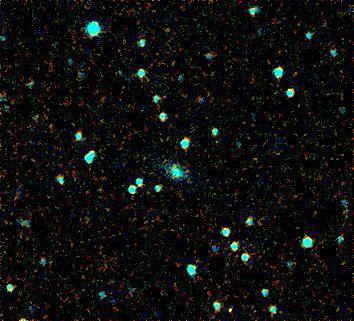star: (279, 59, 309, 89)
